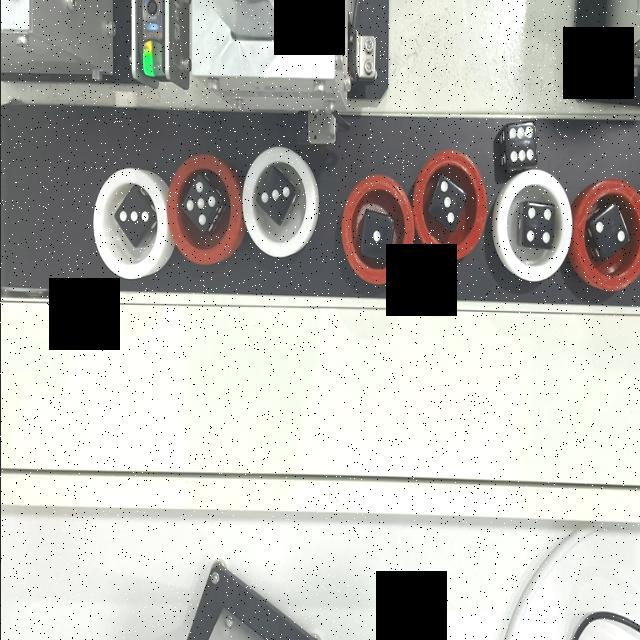DICE1: (366, 223, 384, 251)
DICE2: (593, 210, 625, 249)
DICE3: (257, 184, 293, 208), (438, 180, 456, 227), (116, 206, 148, 230)
DICE4: (523, 206, 553, 244)
DICE5: (184, 178, 218, 225)
DICE6: (506, 124, 534, 166)
RedChip: (166, 155, 242, 263), (572, 176, 640, 292), (340, 176, 413, 284), (414, 151, 484, 255)
WhiteChip: (242, 144, 318, 255), (92, 168, 168, 278), (496, 170, 570, 280)
